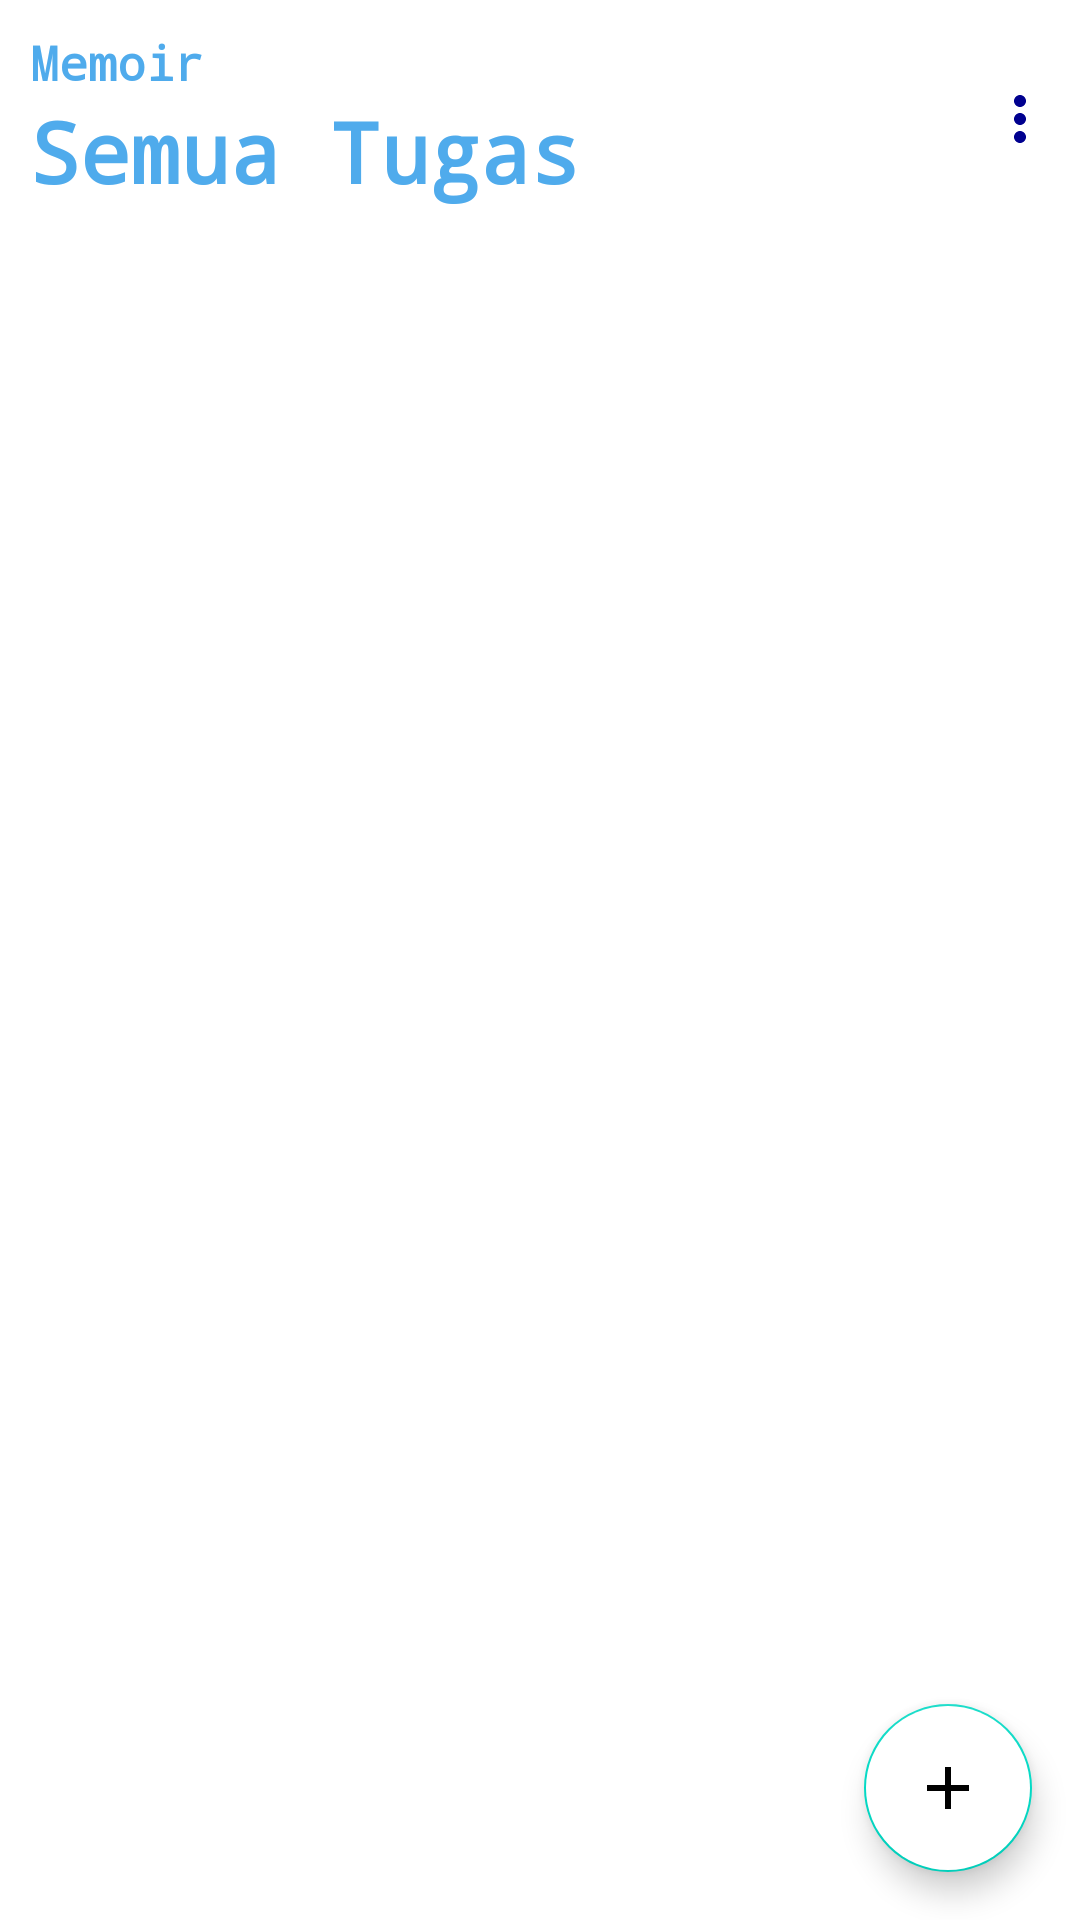

Named icons in this screenshot (1080 × 1920) and their centers, (x,y):
add: (948,1788)
more vert: (1020,119)
